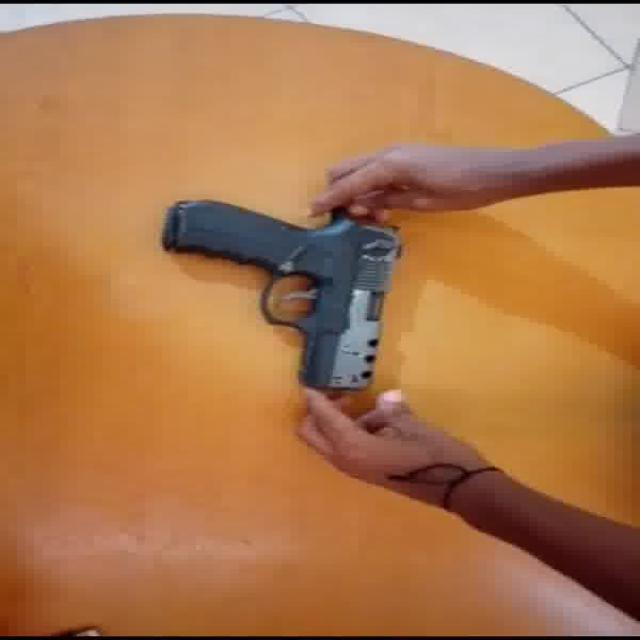weapon: (160, 198, 405, 396)
